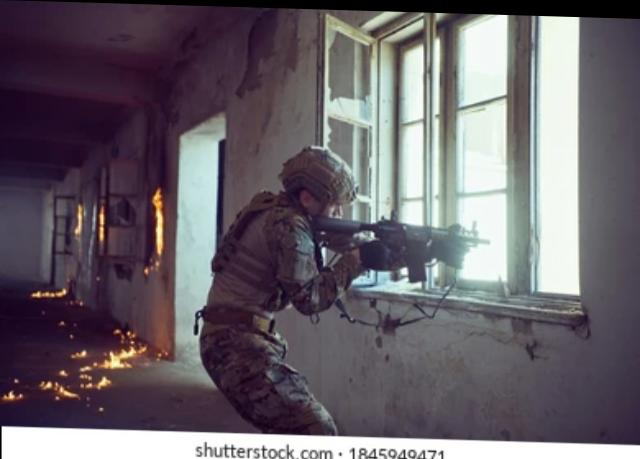other: (208, 150, 346, 430)
